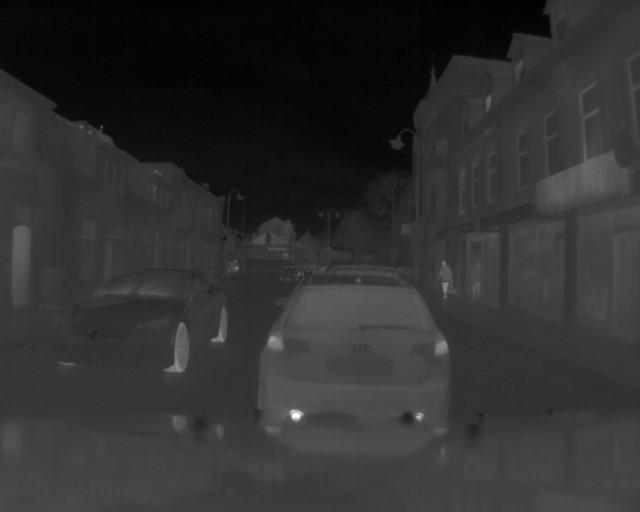car: (269, 275, 448, 417), (57, 260, 228, 374)
person: (436, 251, 461, 296)
